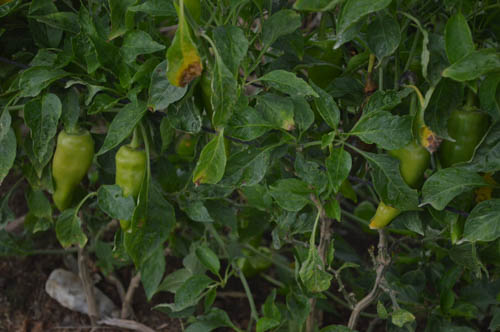ChiliPepper: (372, 141, 428, 221), (48, 130, 93, 211), (439, 109, 479, 168), (110, 143, 143, 201)
